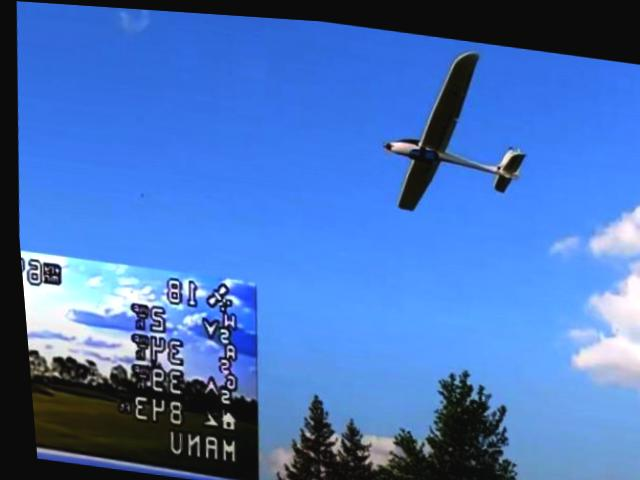iha: (369, 31, 536, 223)
